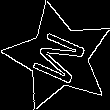M_SE: (26, 25, 92, 88)
